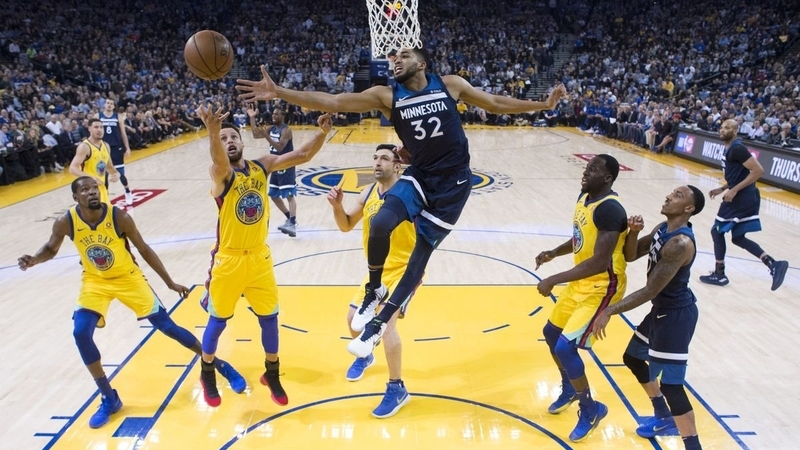basketball: (181, 28, 236, 80)
basketball player: (331, 49, 482, 353), (23, 174, 172, 432), (529, 144, 624, 450), (318, 144, 414, 423), (189, 103, 267, 428), (622, 172, 710, 450), (694, 111, 790, 306), (266, 98, 298, 242), (103, 92, 136, 198), (65, 118, 110, 181)
